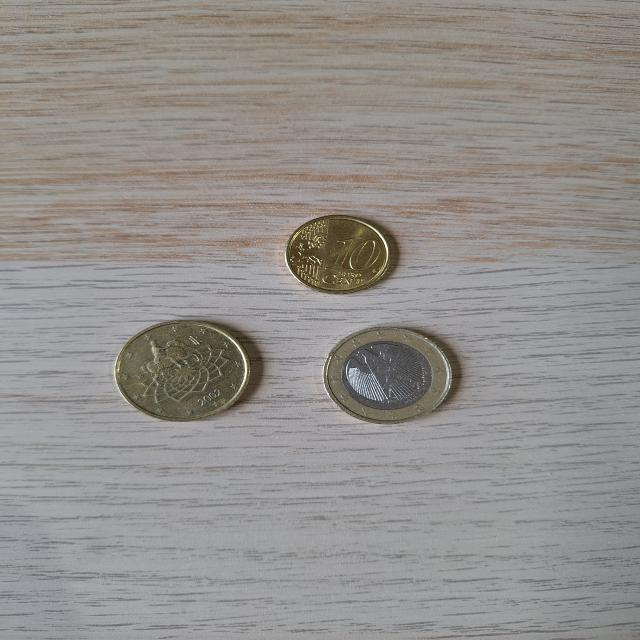10c: (272, 206, 408, 305)
1e: (315, 319, 468, 431)
50c: (95, 308, 277, 433)
